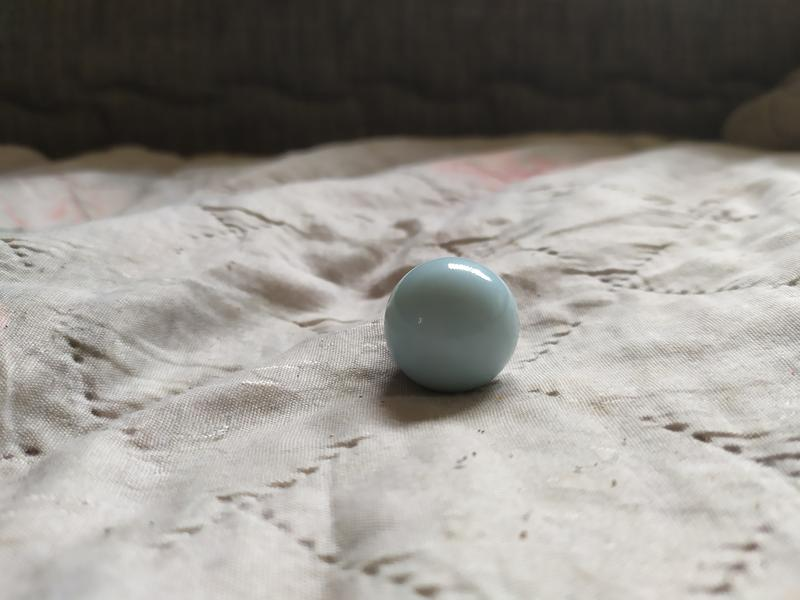Warning: (380, 255, 524, 398)
